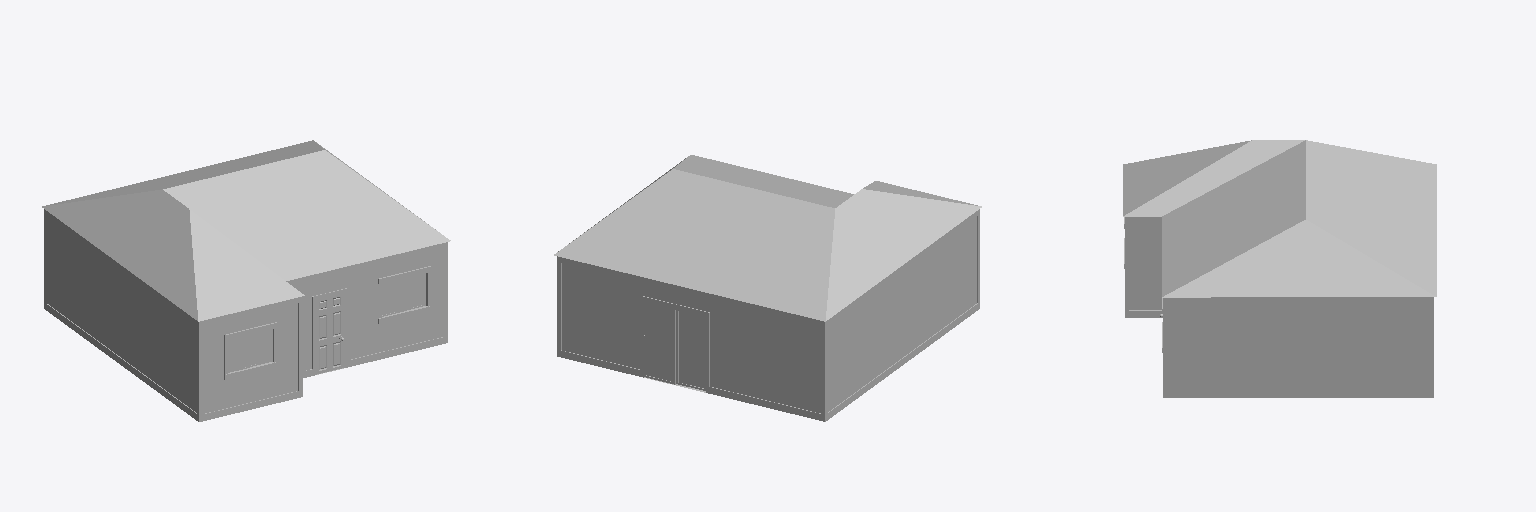
Rendered from House.obj.
The picture shows the model from 3 angles: view 1: azimuth 30°, elevation 25°; view 2: azimuth 150°, elevation 25°; view 3: azimuth 270°, elevation 25°; orthographic projection.
Visible parts, largest first — view 1: Vert, Cube, Vert.004, Vert.003; view 2: Vert, Vert.002; view 3: Vert.
Part boxes in pixels (bbox=[...]): Vert: bbox=[42, 140, 450, 421]; Cube: bbox=[316, 293, 344, 374]; Vert.004: bbox=[250, 329, 272, 366]; Vert.003: bbox=[404, 273, 425, 310]; Vert: bbox=[554, 155, 981, 421]; Vert.002: bbox=[644, 302, 675, 384]; Vert: bbox=[1123, 140, 1436, 397].
Size of the model in its own units: 16.55 by 8.9 by 16.55.